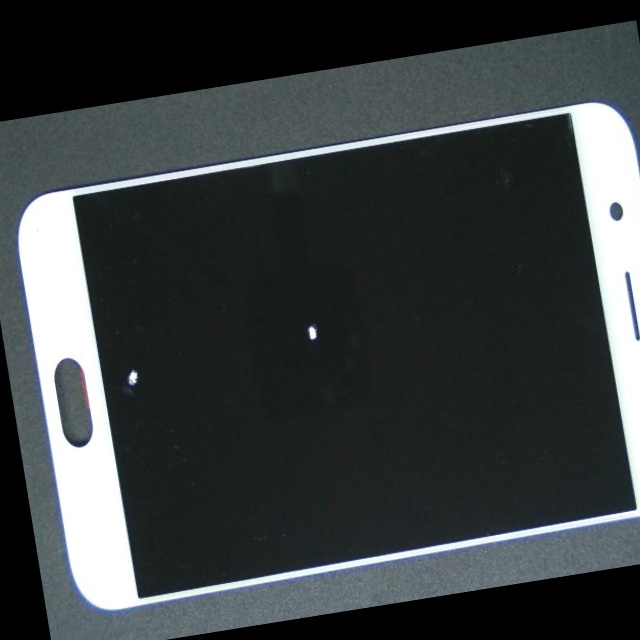stain: (173, 198, 515, 470), (39, 196, 200, 510)
